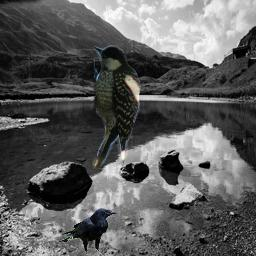Crow: (58, 208, 118, 255)
Woodpecker: (92, 45, 141, 169)
